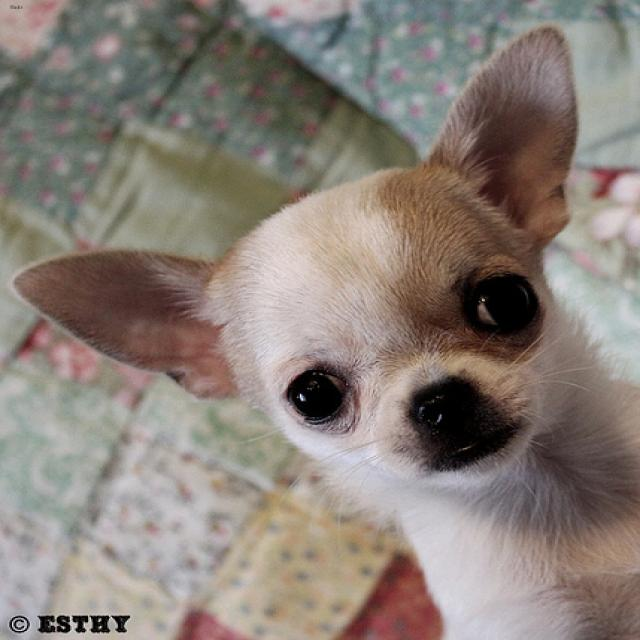dog-chihuahua: (1, 17, 637, 637)
